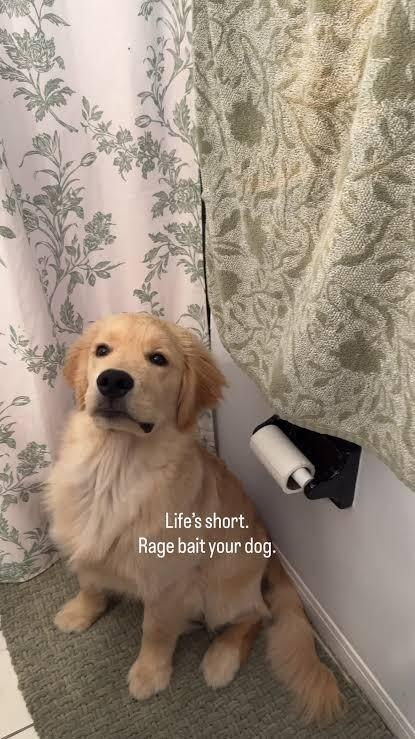adult_dog: (47, 310, 347, 723)
